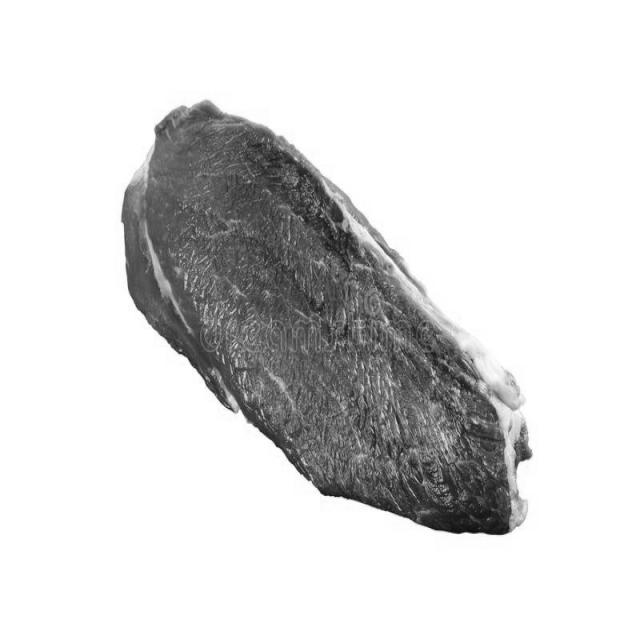filet: (120, 104, 530, 534)
